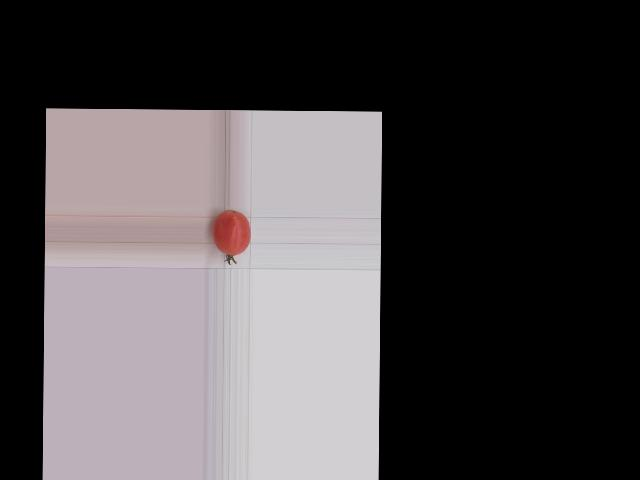tomato: (212, 209, 251, 255)
